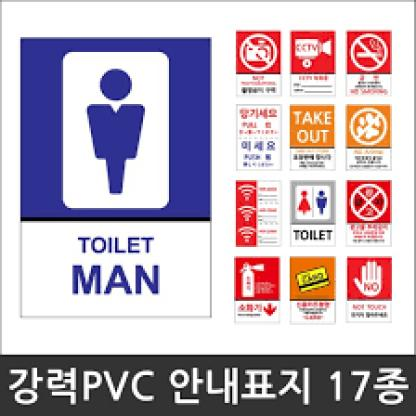toilet: (82, 61, 150, 199), (296, 184, 331, 220)
